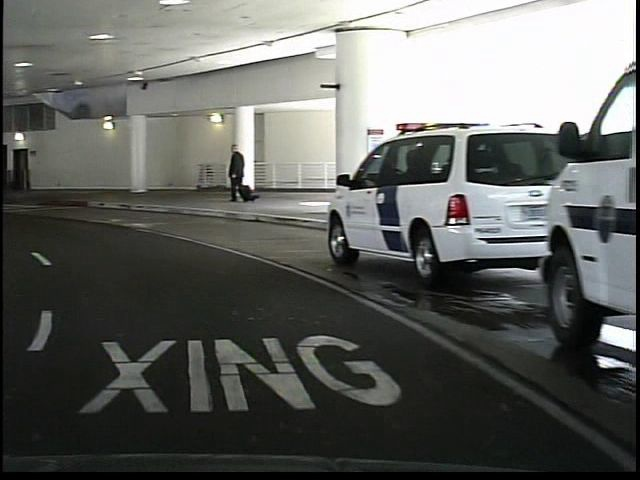person: (221, 140, 245, 203)
